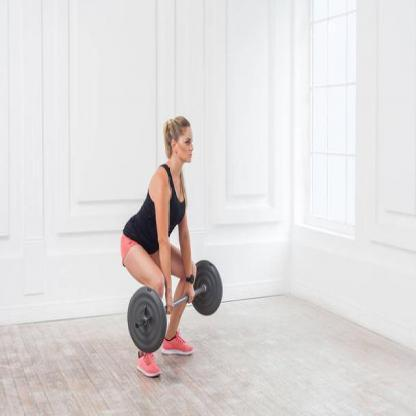Barbell: (134, 322, 141, 334)
